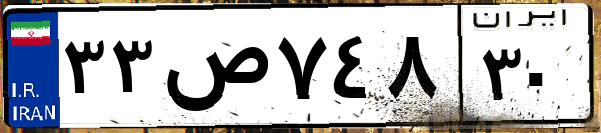0: (525, 38, 570, 115)
3: (57, 26, 110, 100), (475, 38, 525, 113), (110, 28, 158, 98)
4: (330, 28, 385, 110)
7: (270, 28, 330, 110)
8: (385, 28, 445, 110)
ص: (158, 20, 270, 120)
